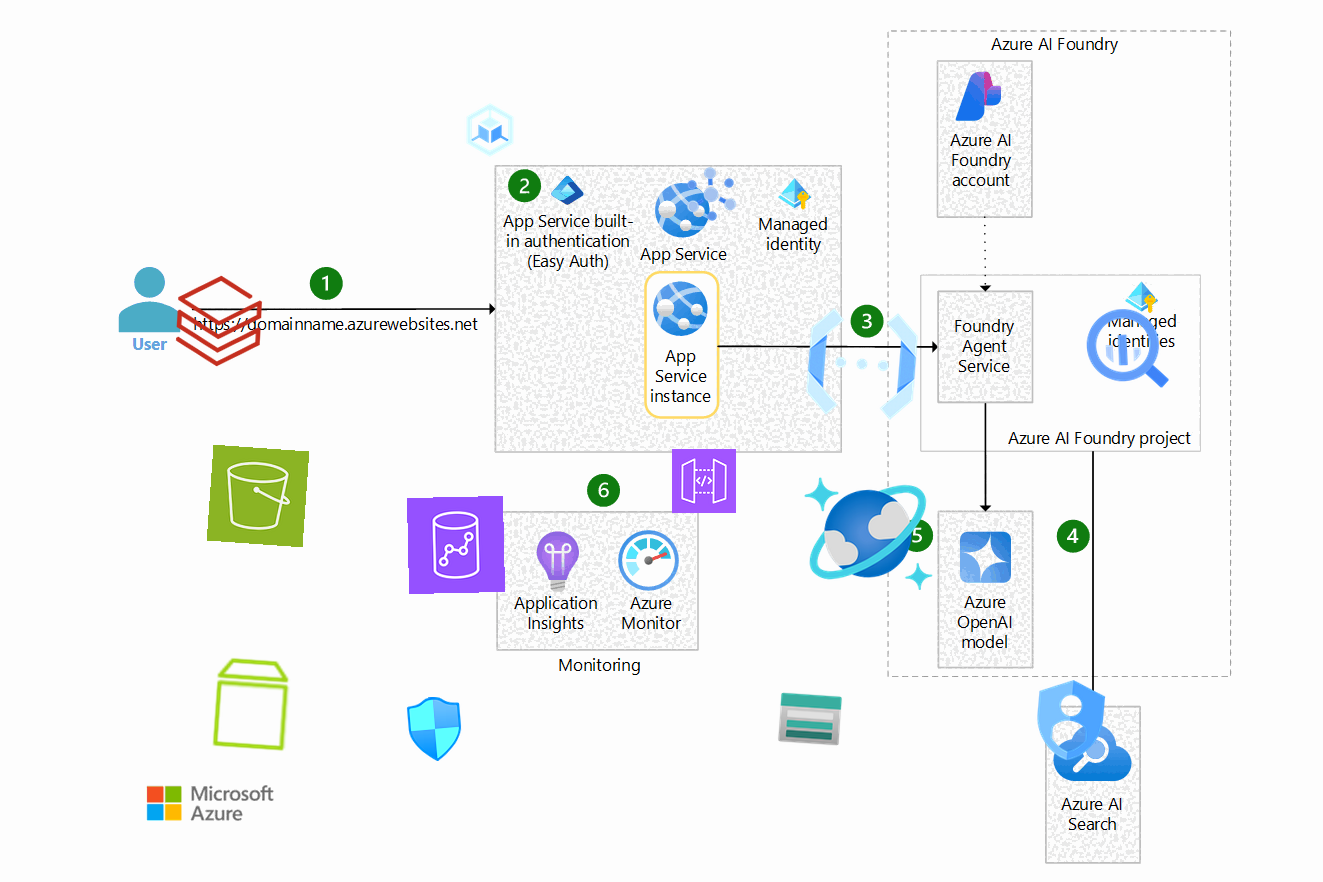aws_amazon_api_gateway: (671, 448, 737, 514)
aws_amazon_redshift: (406, 495, 506, 595)
aws_amazon_simple_storage_service: (206, 444, 310, 548)
aws_elastic_block_store_volume: (200, 652, 304, 756)
azure_cosmos_db: (798, 464, 938, 604)
azure_databricks: (168, 270, 270, 372)
azure_network_security_groups: (400, 694, 470, 764)
azure_storage_accounts: (775, 684, 845, 754)
gcp_bigquery: (1076, 298, 1178, 400)
gcp_cloud_functions: (793, 295, 931, 433)
gcp_google_kubernetes_engine: (457, 97, 523, 163)
gcp_identity_and_access_management: (1018, 668, 1122, 772)
gcp_pubsub: (677, 160, 745, 228)
